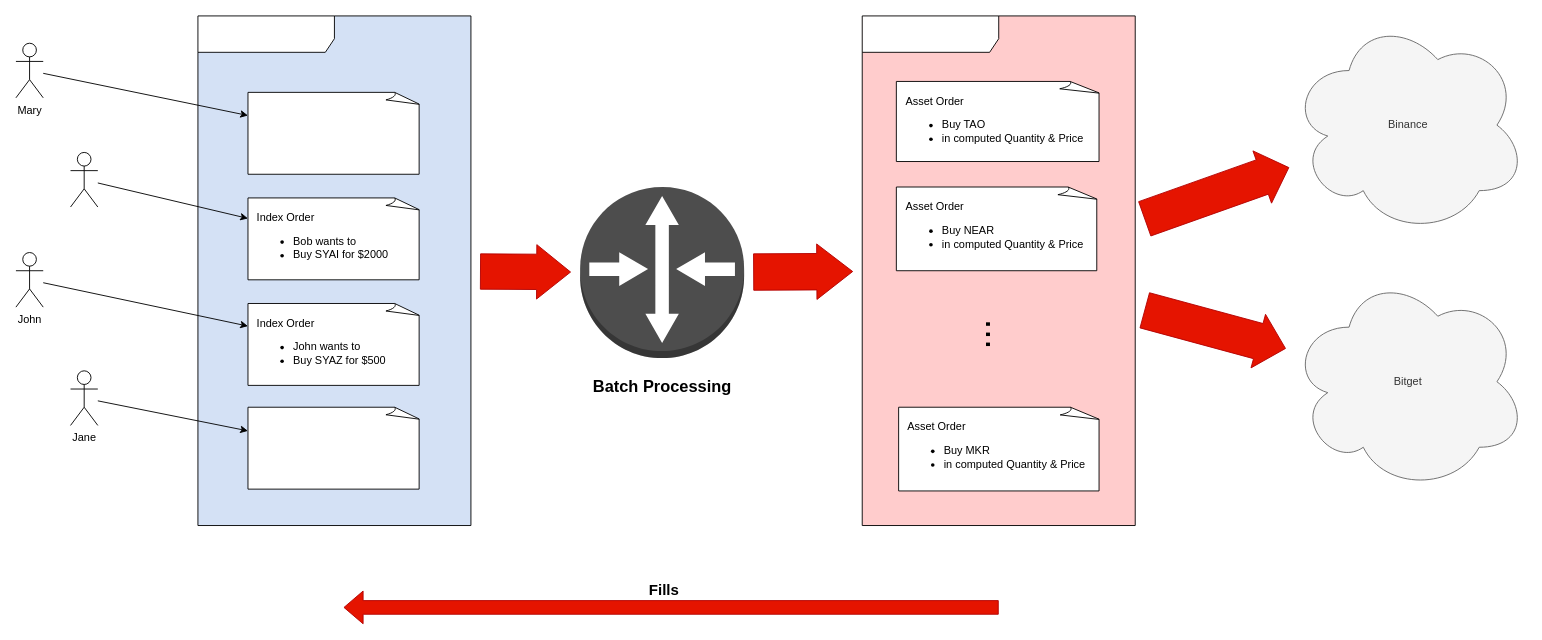
Some shapes in this 1542 by 640 pixel diagram are drawn without their labels. The shapes that lost their labels are listed below. From the top down, each one's box as (x1, y1, x2, y2) in pixels, then its label:
(247, 91, 421, 174): Index Order Mary wants to Buy SYAI for $1000
(70, 152, 98, 207): Bob
(197, 15, 471, 526): Batch of Index Orders
(861, 15, 1135, 526): Batch of Asset Orders
(247, 406, 421, 489): Index Order Jane wants to Buy SYDF for $300
